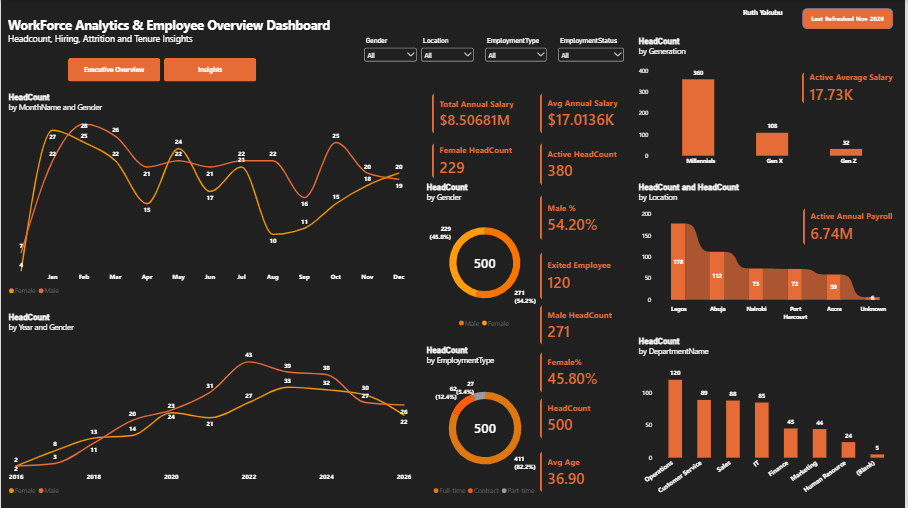

The dashboard page shown, as its layout file describes it:
{"tool":"powerbi","page":{"name":"Executive Overview","canvas":[1920,1080],"ordinal":0},"visuals":[{"type":"cardVisual","fields":{"Data":["Dax Measures.HeadCount"]},"box":[1145.9,846.1,150.9,87.2],"z":0},{"type":"cardVisual","fields":{"Data":["Dax Measures.Active HeadCount"]},"box":[1145.9,304,193.5,91.4],"z":1},{"type":"cardVisual","fields":{"Data":["Dax Measures.Exited Employee"]},"box":[1145.9,535.7,178.6,102],"z":2},{"type":"cardVisual","fields":{"Data":["Dax Measures.Female HeadCount"]},"box":[916.3,304,202,76.5],"z":3},{"type":"cardVisual","fields":{"Data":["Dax Measures.Male HeadCount"]},"box":[1145.9,648.4,178.6,85],"z":4},{"type":"cardVisual","fields":{"Data":["Dax Measures.Avg Age"]},"box":[1145.9,958.8,155.2,89.3],"z":5},{"type":"cardVisual","fields":{"Data":["Dax Measures.Female%"]},"box":[1145.9,748.3,144.6,87.2],"z":6},{"type":"cardVisual","fields":{"Data":["Dax Measures.Male %"]},"box":[1145.9,414.6,157.3,97.8],"z":7},{"type":"cardVisual","fields":{"Data":["Dax Measures.Total Annual Salary"]},"box":[916.3,197.7,202,87.2],"z":8},{"type":"cardVisual","fields":{"Data":["Dax Measures.Avg Annual Salary"]},"box":[1145.9,197.7,193.5,87.2],"z":9},{"type":"columnChart","fields":{"Category":["Departments.DepartmentName"],"Y":["Dax Measures.HeadCount"]},"box":[1339.4,699.4,580.4,380.6],"z":10},{"type":"donutChart","fields":{"Category":["Employees_Raw.Gender"],"Y":["Dax Measures.HeadCount"]},"box":[889.4,372.9,279.7,345.2],"z":11},{"type":"ribbonChart","fields":{"Category":["Employees_Raw.Location"],"Y":["Dax Measures.HeadCount"]},"box":[1339.4,372,580.4,327.4],"z":12},{"type":"donutChart","fields":{"Category":["Employees_Raw.EmploymentType"],"Y":["Dax Measures.HeadCount"]},"box":[888.7,718.6,280.6,355],"z":13},{"type":"lineChart","fields":{"Category":["Employees_Raw.Year"],"Series":["Employees_Raw.Gender"],"Y":["Dax Measures.HeadCount"]},"box":[0,648.4,888.7,425.2],"z":14},{"type":"lineChart","fields":{"Category":["Employees_Raw.MonthName"],"Series":["Employees_Raw.Gender"],"Y":["Dax Measures.HeadCount"]},"box":[0,180.7,888.7,467.7],"z":15},{"type":"columnChart","fields":{"Category":["Employees_Raw.Generation"],"Y":["Dax Measures.HeadCount"]},"box":[1339.4,61.7,580.4,310.4],"z":16},{"type":"slicer","fields":{"Values":["Employees_Raw.Gender"]},"box":[767.5,78.7,121.2,53.1],"z":17},{"type":"slicer","fields":{"Values":["Employees_Raw.EmploymentType"]},"box":[1024.7,78.7,140.3,53.1],"z":18},{"type":"slicer","fields":{"Values":["Employees_Raw.EmploymentStatus"]},"box":[1179.9,78.7,148.8,53.1],"z":19},{"type":"textbox","box":[14.9,34,829.1,114.8],"z":20},{"type":"slicer","fields":{"Values":["Employees_Raw.Location"]},"box":[888.7,78.7,121.2,53.1],"z":21},{"type":"shape","box":[1703.2,16.5,194.1,45.4],"z":22},{"type":"textbox","box":[1577.5,17,102,23.4],"z":23},{"type":"pageNavigator","box":[142.5,123.9,400,50],"z":24},{"type":"cardVisual","fields":{"Data":["Dax Measures.Active Annual Payroll"]},"box":[1705,442.2,214.7,80.8],"z":25},{"type":"cardVisual","fields":{"Data":["Dax Measures.Active Average Salary"]},"box":[1702.9,153.1,216.9,68],"z":26}]}

Visuals, with their boxes in screenshot pixels (x1, y1, x2, y2), scaled from the page's 1920x1080 canvas onto the 908x508 screenshot:
cardVisual - Dax Measures.HeadCount: <box>542,398,613,439</box>
cardVisual - Dax Measures.Active HeadCount: <box>542,143,633,186</box>
cardVisual - Dax Measures.Exited Employee: <box>542,252,626,300</box>
cardVisual - Dax Measures.Female HeadCount: <box>433,143,529,179</box>
cardVisual - Dax Measures.Male HeadCount: <box>542,305,626,345</box>
cardVisual - Dax Measures.Avg Age: <box>542,451,615,493</box>
cardVisual - Dax Measures.Female%: <box>542,352,610,393</box>
cardVisual - Dax Measures.Male %: <box>542,195,616,241</box>
cardVisual - Dax Measures.Total Annual Salary: <box>433,93,529,134</box>
cardVisual - Dax Measures.Avg Annual Salary: <box>542,93,633,134</box>
columnChart - Departments.DepartmentName x Dax Measures.HeadCount: <box>633,329,907,507</box>
donutChart - Employees_Raw.Gender x Dax Measures.HeadCount: <box>421,175,553,338</box>
ribbonChart - Employees_Raw.Location x Dax Measures.HeadCount: <box>633,175,907,329</box>
donutChart - Employees_Raw.EmploymentType x Dax Measures.HeadCount: <box>420,338,553,505</box>
lineChart - Employees_Raw.Year x Employees_Raw.Gender: <box>0,305,420,505</box>
lineChart - Employees_Raw.MonthName x Employees_Raw.Gender: <box>0,85,420,305</box>
columnChart - Employees_Raw.Generation x Dax Measures.HeadCount: <box>633,29,907,175</box>
slicer - Employees_Raw.Gender: <box>363,37,420,62</box>
slicer - Employees_Raw.EmploymentType: <box>485,37,551,62</box>
slicer - Employees_Raw.EmploymentStatus: <box>558,37,628,62</box>
textbox: <box>7,16,399,70</box>
slicer - Employees_Raw.Location: <box>420,37,478,62</box>
shape: <box>805,8,897,29</box>
textbox: <box>746,8,794,19</box>
pageNavigator: <box>67,58,257,82</box>
cardVisual - Dax Measures.Active Annual Payroll: <box>806,208,907,246</box>
cardVisual - Dax Measures.Active Average Salary: <box>805,72,907,104</box>
